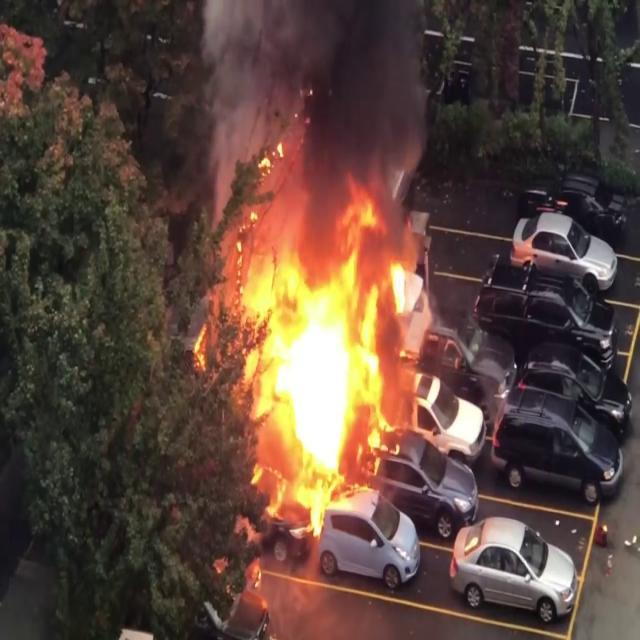Fire: (230, 168, 436, 522)
Smoke: (186, 0, 445, 234)
